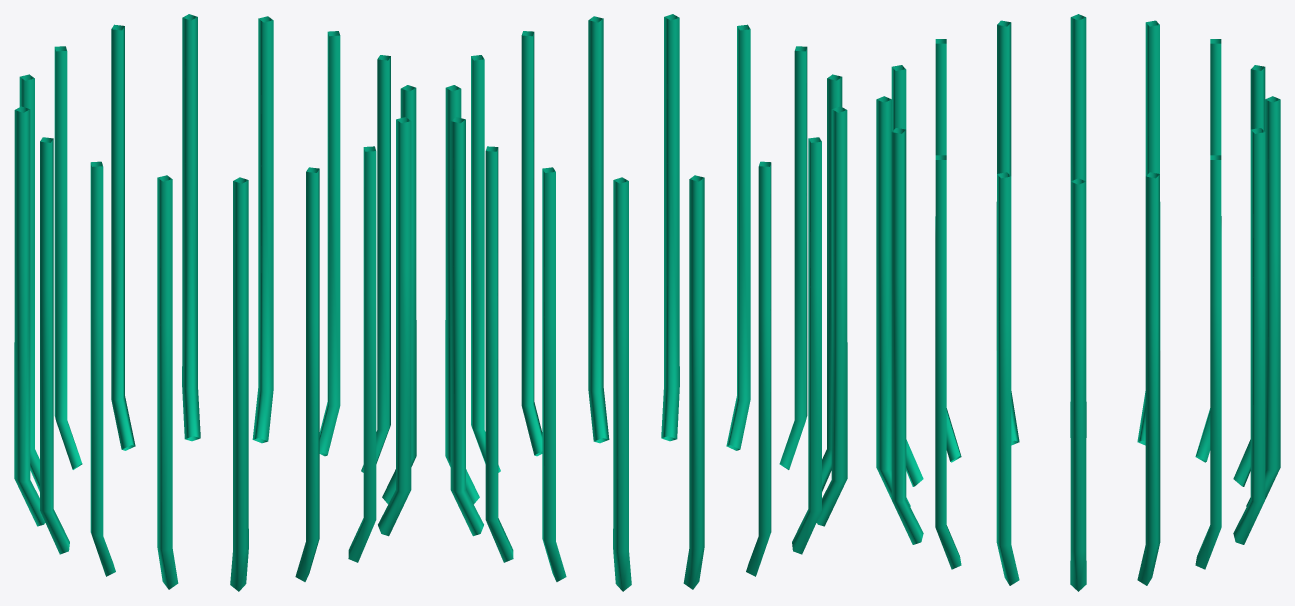
The model's file is cage.gltf.
3 renders of one model, left to right at view 1: azimuth 30°, elevation 25°; view 2: azimuth 150°, elevation 25°; view 3: azimuth 270°, elevation 25°, orthographic.
Visible parts, largest first — view 1: warp_1_0_node; view 2: warp_1_0_node; view 3: warp_1_0_node.
Boxes of the visible parts, bbox=[...] form: warp_1_0_node: bbox=[14, 14, 416, 591]; warp_1_0_node: bbox=[445, 14, 847, 591]; warp_1_0_node: bbox=[876, 14, 1280, 591].
Size of the model in its own units: 188 by 214 by 188.
Materials: 1 (1 with a texture image).
